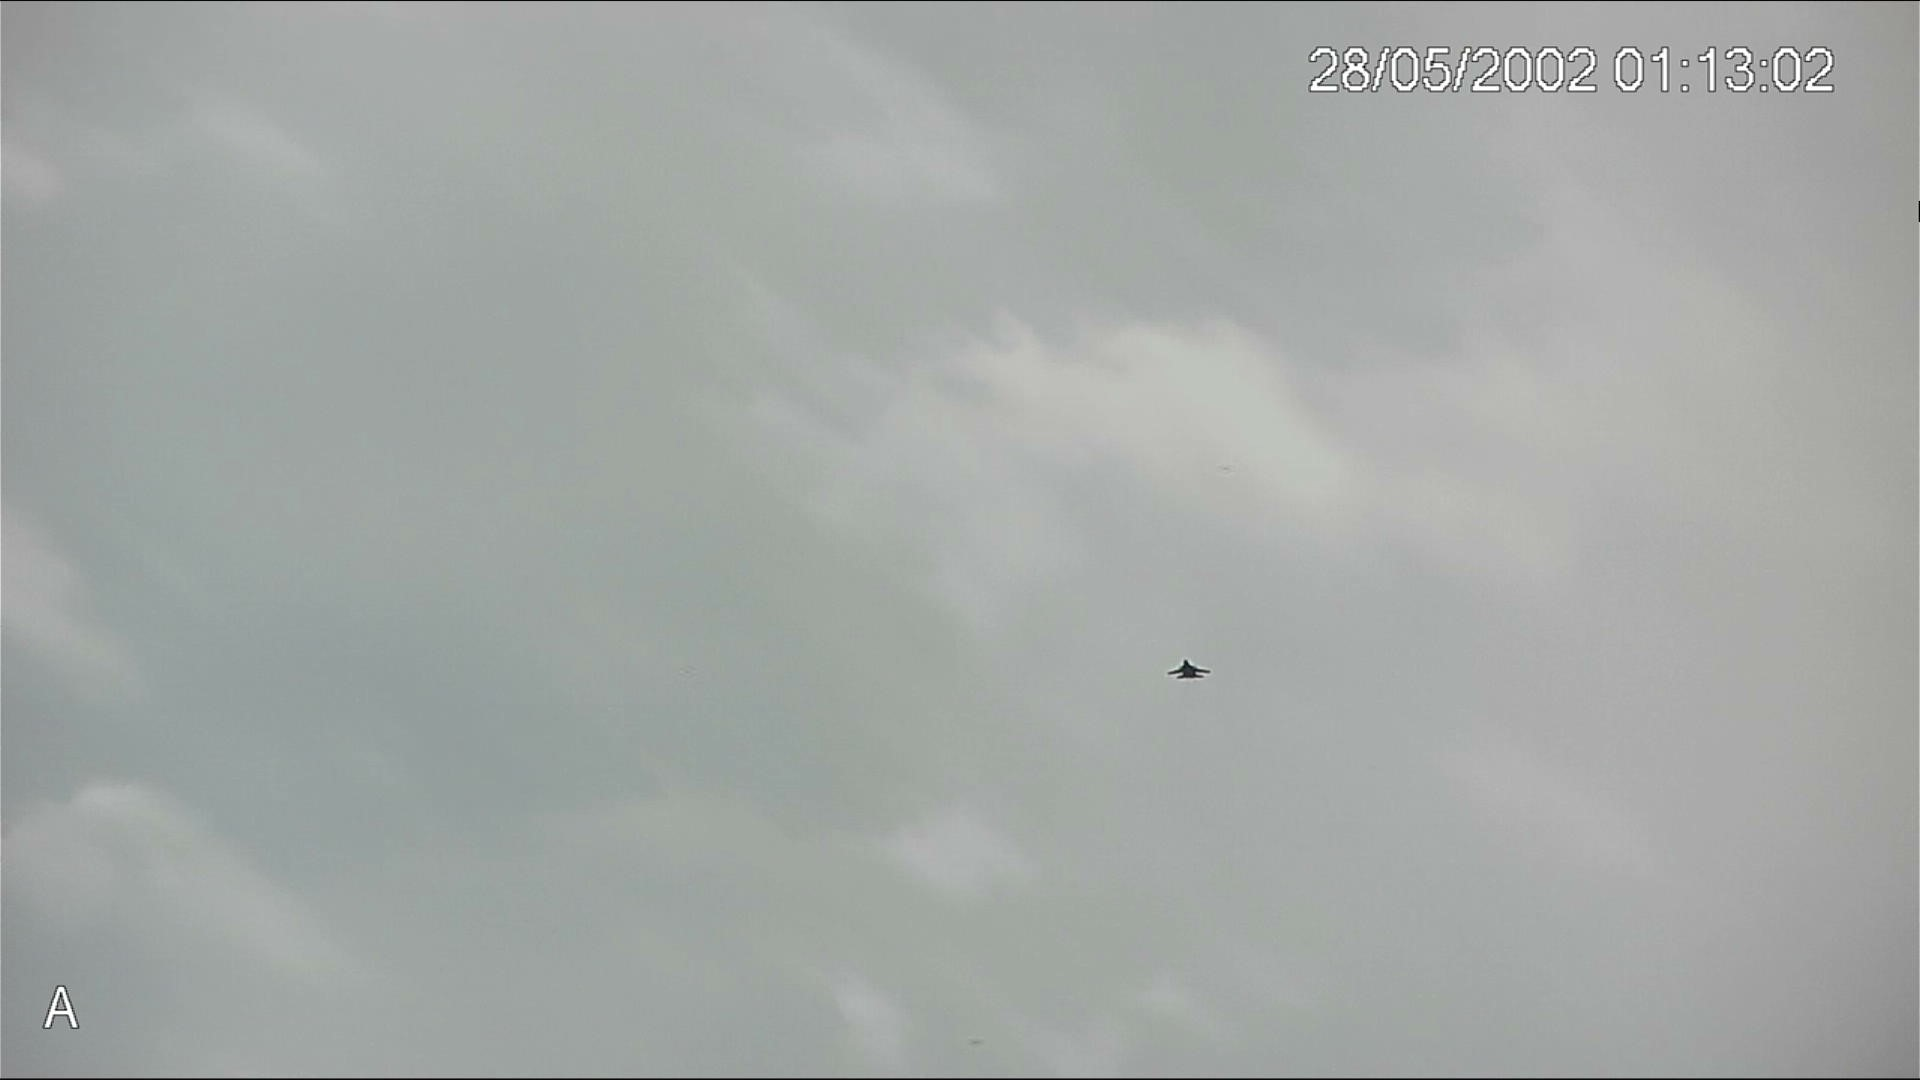SU_30: (1166, 657, 1215, 682)
